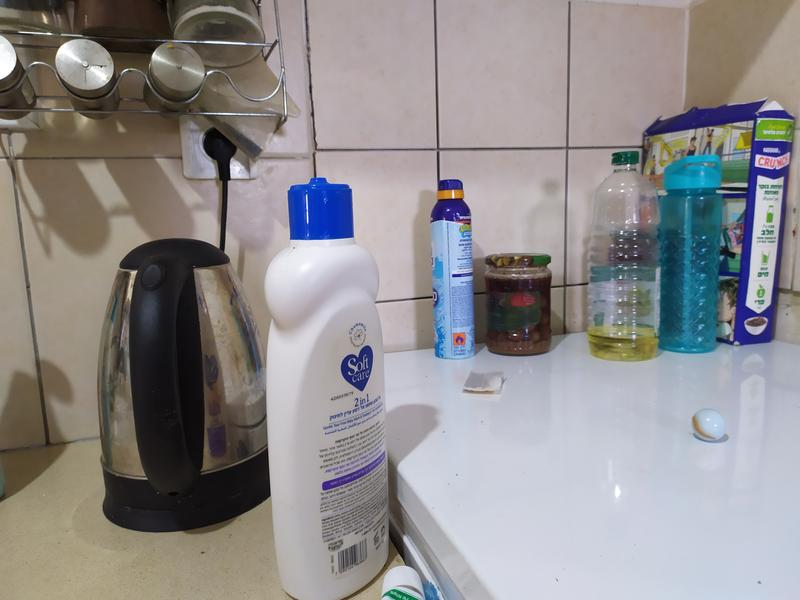Warning: (690, 406, 728, 443)
